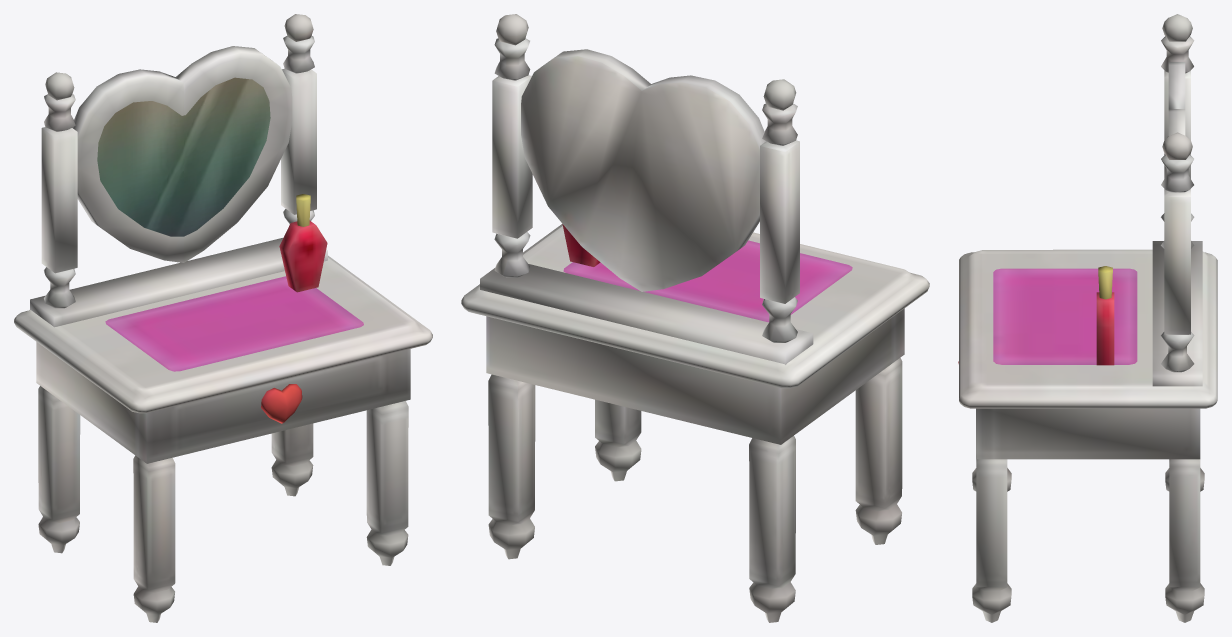
3 renders of one model, left to right at view 1: azimuth 30°, elevation 25°; view 2: azimuth 150°, elevation 25°; view 3: azimuth 270°, elevation 25°, orthographic. The views are drawn at different scales.
Bounding box in the file's own units: 8.95 × 13.64 × 6.57.
2 materials, 2 textured.
